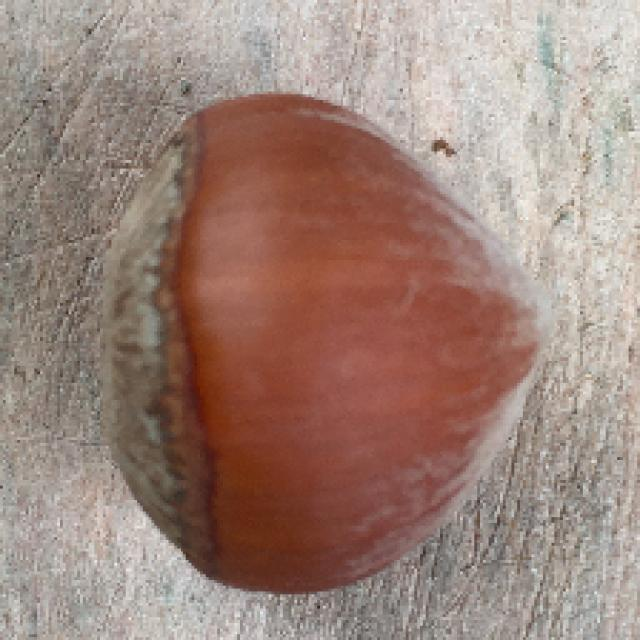hazelnut: (77, 85, 549, 598)
